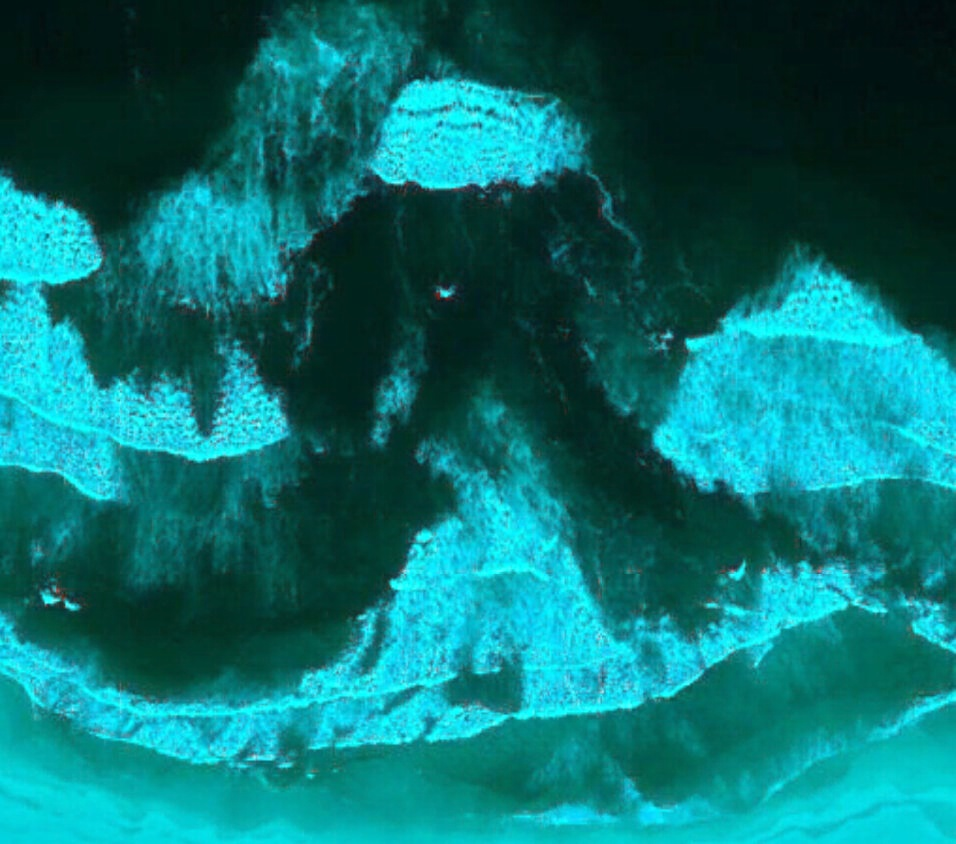rip_current: (146, 146, 483, 669)
